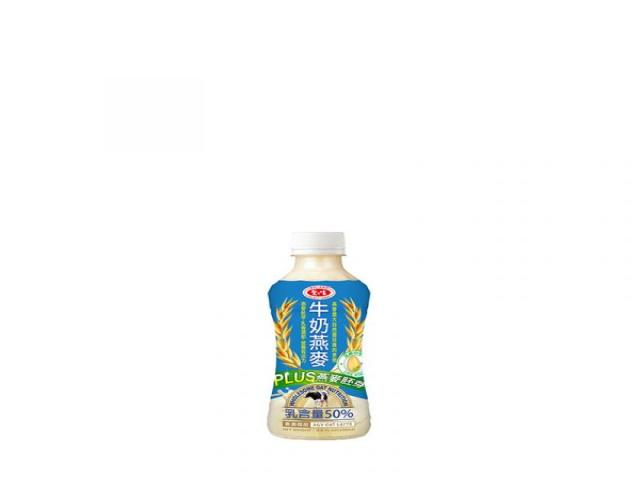bottle: (268, 232, 370, 439)
